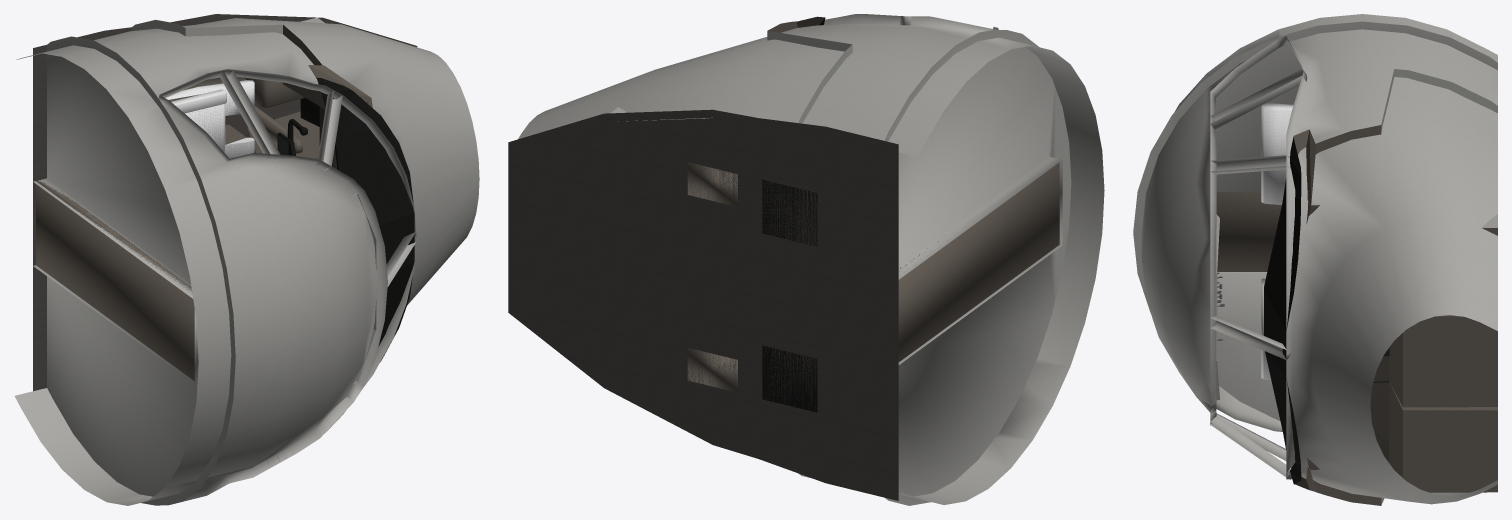
The model's file is atr72-600-cockpit.glb.
The picture shows the model from 3 angles, left to right: view 1: azimuth 30°, elevation 25°; view 2: azimuth 150°, elevation 25°; view 3: azimuth 270°, elevation 25°; orthographic projection. The views are drawn at different scales.
Bounding box in the file's own units: 2.61 × 2.7 × 2.11.
Materials: 41 (30 with a texture image).
